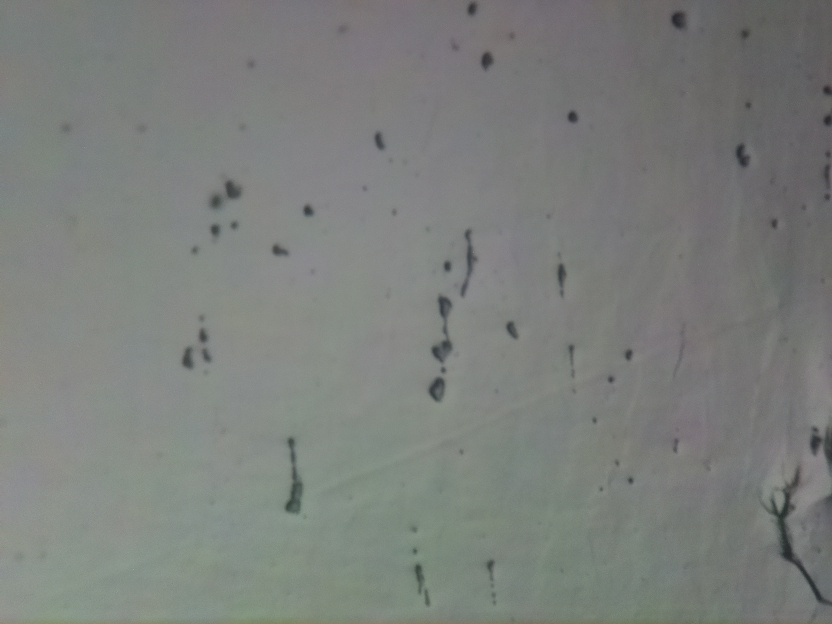crack: (759, 462, 832, 624)
